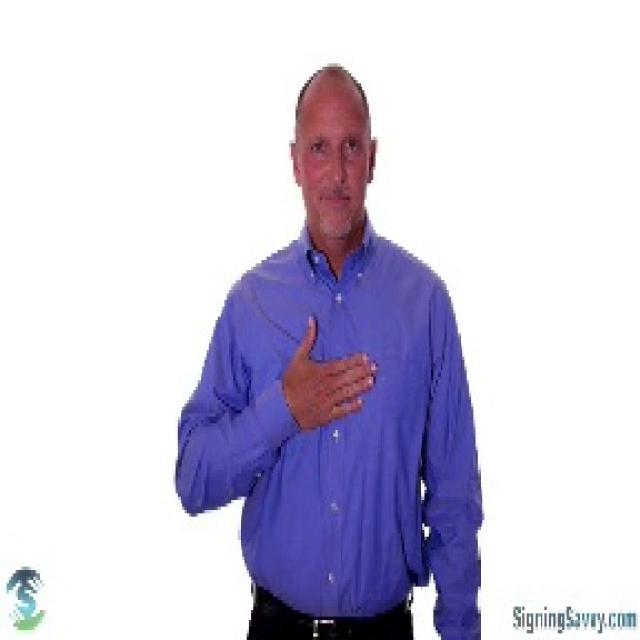please: (260, 313, 383, 442)
